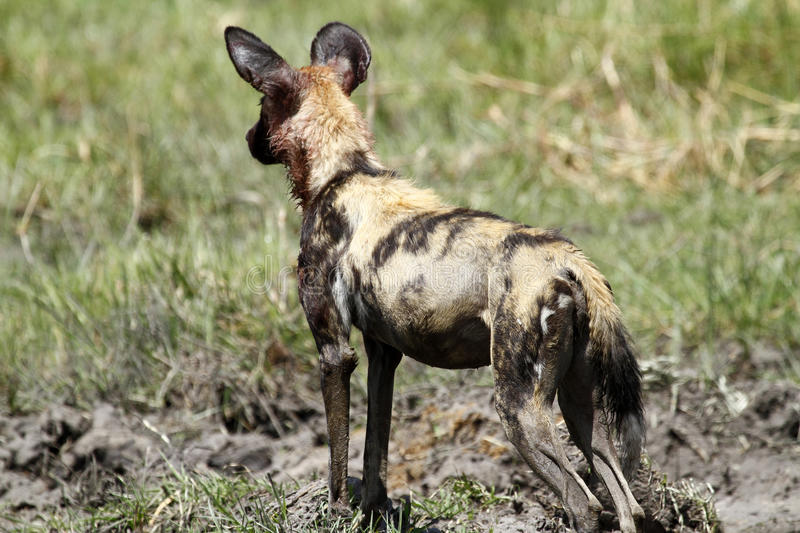dog: (224, 19, 648, 533)
